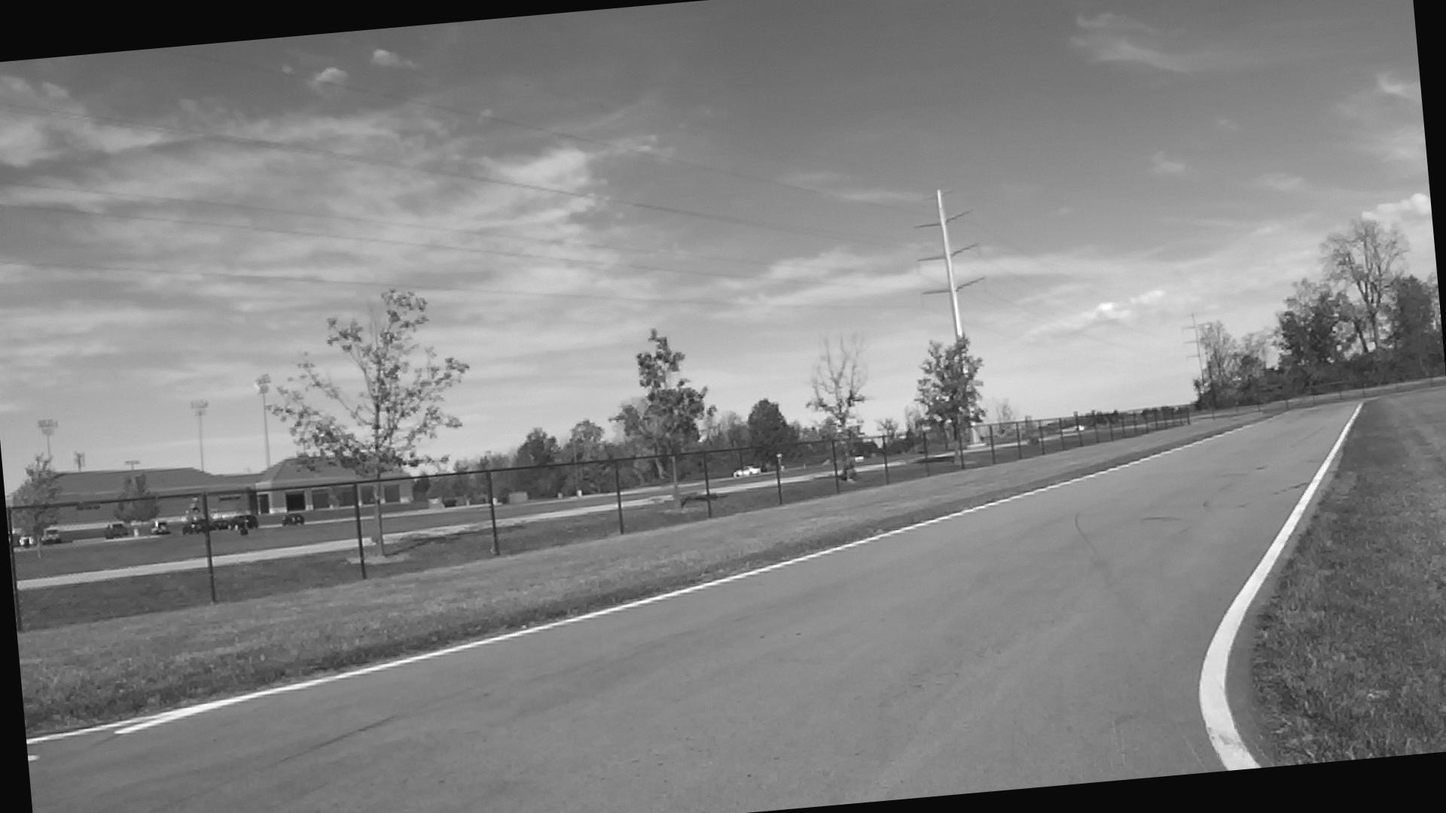white-line: (26, 423, 1259, 745), (1200, 401, 1362, 770)
